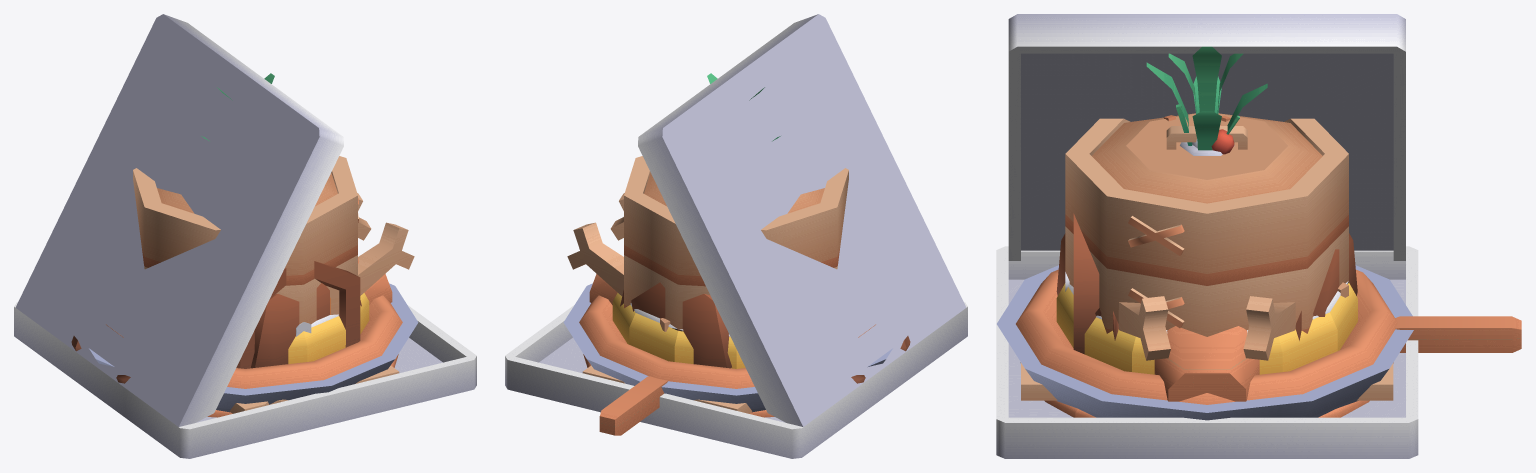
The model's file is foods.glb.
3 views of the same model, side by side, from view 1: azimuth 30°, elevation 25°; view 2: azimuth 150°, elevation 25°; view 3: azimuth 270°, elevation 25° (orthographic). The views are drawn at different scales.
Visible parts, largest first — view 1: lid (×2), pizza-box, layer (×2), pie, leg, whole-ham, wedge (×2), cutting-board-japanese, loaf-baguette; view 2: lid (×2), pizza-box, layer (×2), pie, leg, wedge (×3), frying-pan, cutting-board-japanese, loaf-baguette; view 3: lid (×2), layer (×2), pizza-box, pie, wedge (×6), leg (×2), loaf-baguette, frying-pan, leek, whole-ham, cutting-board-japanese.
Part boxes in pixels (left/top/right/bottom): lid (×2): left=15, top=14, right=343, bottom=426; pizza-box: left=14, top=302, right=476, bottom=458; layer (×2): left=133, top=156, right=358, bottom=324; pie: left=89, top=283, right=418, bottom=412; leg: left=251, top=222, right=414, bottom=368; whole-ham: left=236, top=261, right=360, bottom=368; wedge (×2): left=288, top=316, right=345, bottom=363; cutting-board-japanese: left=229, top=365, right=399, bottom=413; loaf-baguette: left=106, top=274, right=392, bottom=337; lid (×2): left=638, top=14, right=966, bottom=426; pizza-box: left=505, top=302, right=967, bottom=458; layer (×2): left=624, top=156, right=848, bottom=330; pie: left=563, top=283, right=892, bottom=412; leg: left=567, top=222, right=731, bottom=368; wedge (×3): left=612, top=293, right=736, bottom=368; frying-pan: left=599, top=376, right=667, bottom=435; cutting-board-japanese: left=582, top=365, right=752, bottom=413; loaf-baguette: left=589, top=274, right=875, bottom=337; lid (×2): left=1008, top=14, right=1405, bottom=260; layer (×2): left=1065, top=118, right=1348, bottom=336; pizza-box: left=996, top=246, right=1418, bottom=458; pie: left=997, top=265, right=1413, bottom=420; wedge (×6): left=1056, top=283, right=1357, bottom=374; leg (×2): left=1056, top=233, right=1357, bottom=360; loaf-baguette: left=1154, top=326, right=1259, bottom=401; frying-pan: left=1395, top=316, right=1521, bottom=352; leek: left=1146, top=46, right=1267, bottom=150; whole-ham: left=1065, top=213, right=1348, bottom=354; cutting-board-japanese: left=1021, top=363, right=1393, bottom=400.
Size of the model in its own units: 0.9504 by 0.8816 by 1.19.
Materials: 1 (1 with a texture image).
